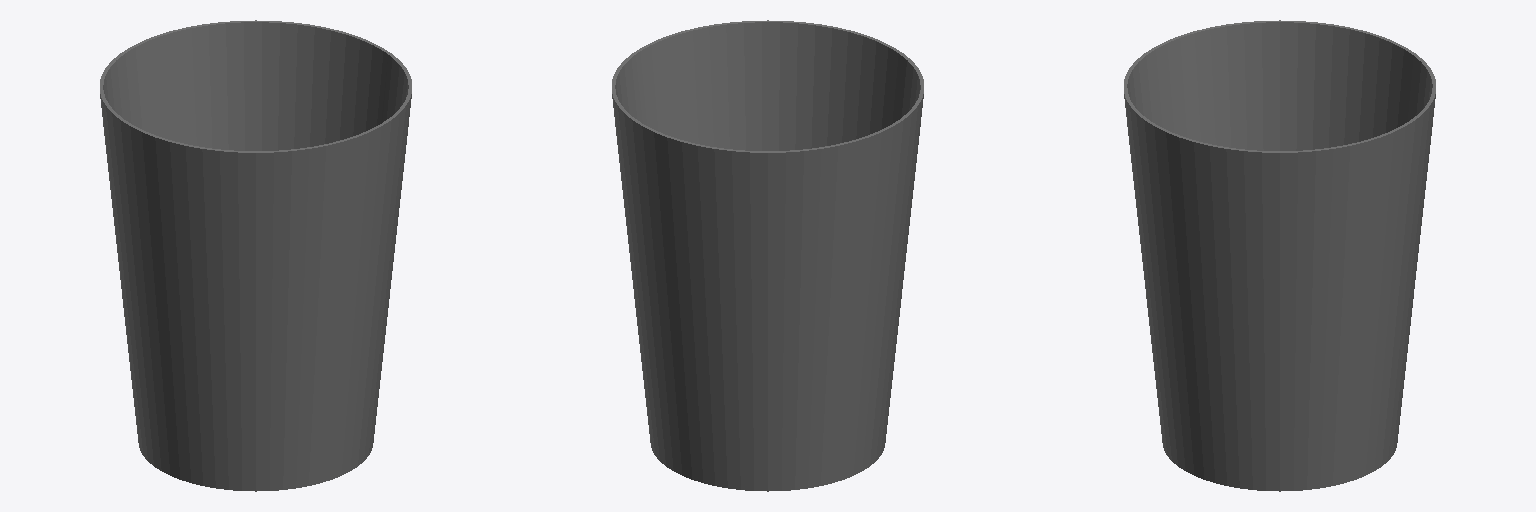
URDF robot description (cup.urdf):
<?xml version="0.0" ?>
<robot name="cup.urdf">
  <link name="baseLink">
    <contact>
      <lateral_friction value="0.2"/>
      <rolling_friction value="0.0001"/>
      <inertia_scaling value="3.0"/>
    </contact>
    <inertial>
      <origin rpy="0 0 0" xyz="0 0 0"/>
       <mass value="0.1"/>
       <inertia ixx="1" ixy="0" ixz="0" iyy="1" iyz="0" izz="1"/>
    </inertial>

    <visual>
      <origin rpy="0 0 0" xyz="0 0 0"/>
      <geometry>
        <mesh filename="cup.stl"/>
      </geometry>
      <material name="clear_thick_glass">
        <color rgba="0.5 0.5 0.5 0.75"/>
      </material>
    </visual>
    <collision>
      <origin rpy="0 0 0" xyz="0 0 0"/>
      <geometry>
        <mesh filename="cup.stl"/>
      </geometry>
    </collision>
  </link>
</robot>

--- Facts derived from the render (not from the file) ---
3 views of the same robot in one strip: view 1: azimuth 30°, elevation 25°; view 2: azimuth 150°, elevation 25°; view 3: azimuth 270°, elevation 25° (orthographic).
Robot: cup.urdf — 1 links, 0 joints (none); root link baseLink; default pose: all joints at 0.
Links seen in each view (by area): view 1: baseLink; view 2: baseLink; view 3: baseLink.
Link boxes in pixels (x1,y1,x2,y2): baseLink: (100,20,411,491); baseLink: (612,20,923,491); baseLink: (1124,20,1435,491).
Bounding box of the posed robot: 0.08 × 0.0799 × 0.1 m (x, y, z).
1 mesh visuals loaded from 1 distinct referenced files (1 binary STL).